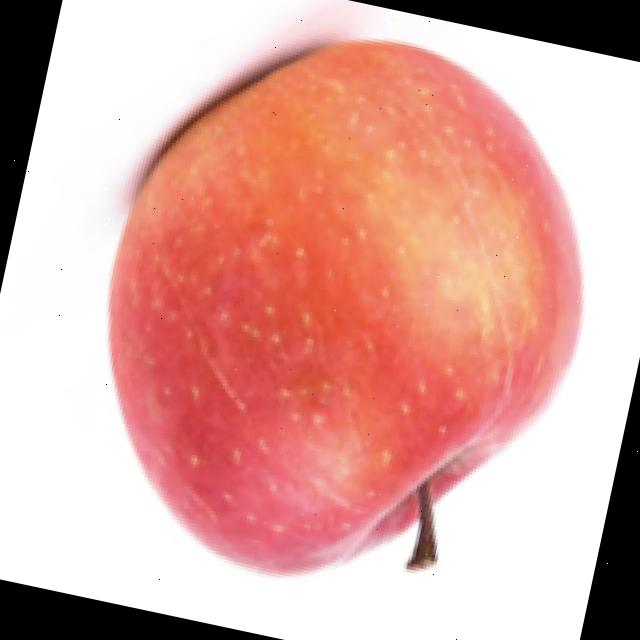apple: (103, 10, 588, 583)
